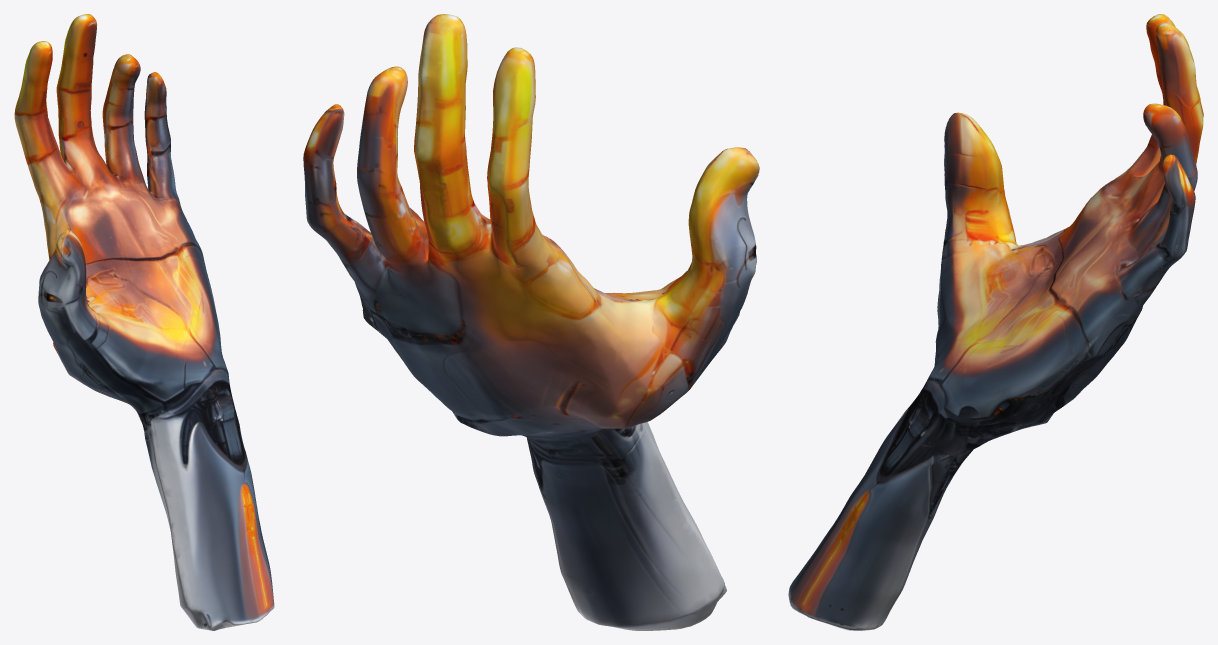
The model's file is robohand.glb.
3 views of the same model, side by side, from view 1: azimuth 30°, elevation 25°; view 2: azimuth 150°, elevation 25°; view 3: azimuth 270°, elevation 25° (orthographic). The views are drawn at different scales.
Bounding box in the file's own units: 0.8738 × 2 × 1.27.
Materials: 1 (1 with a texture image).
